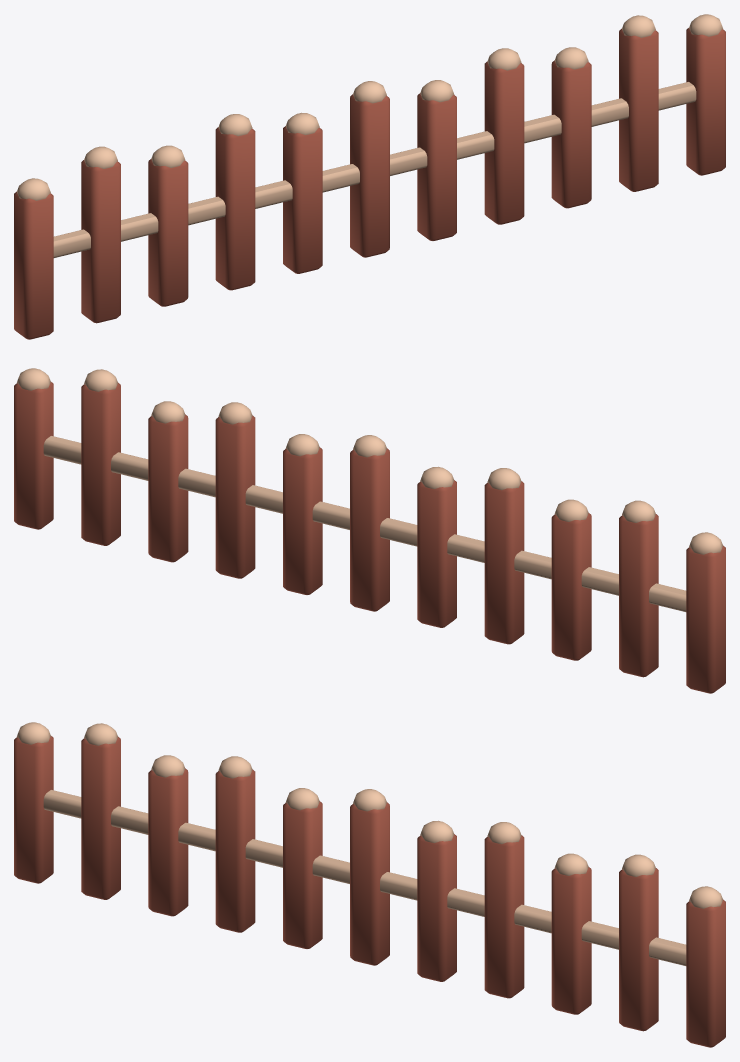
Rendered from fence_5.glb.
3 renders of one model, top to bottom at view 1: azimuth 30°, elevation 25°; view 2: azimuth 150°, elevation 25°; view 3: azimuth 330°, elevation 25°, orthographic.
Parts seen in each view (by area): view 1: Fence; view 2: Fence; view 3: Fence.
Boxes of the visible parts, x1,y1,x2,y2 form: Fence: (14,14,725,339); Fence: (14,368,725,693); Fence: (14,722,725,1047).
Bounding box in the file's own units: 5.75 × 1.31 × 0.22.
